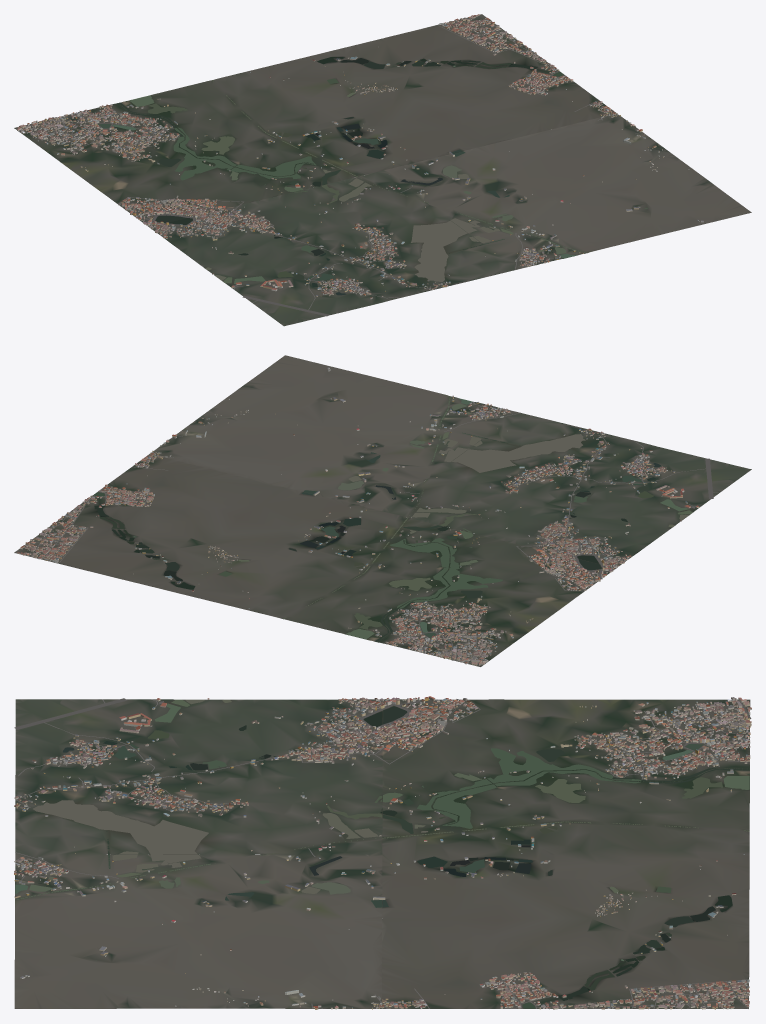
The picture shows the model from 3 angles, top to bottom: view 1: azimuth 30°, elevation 25°; view 2: azimuth 150°, elevation 25°; view 3: azimuth 270°, elevation 25°; orthographic projection. The views are drawn at different scales.
Parts seen in each view (by area): view 1: ground, buildings, water, roads; view 2: ground, buildings, water, roads; view 3: ground, buildings, water, roads.
Part boxes in pixels (box(x1,y1,x2,y2)): ground: box(14, 14, 751, 326); buildings: box(17, 14, 703, 299); water: box(99, 57, 647, 299); roads: box(18, 18, 641, 316); ground: box(14, 355, 751, 666); buildings: box(17, 367, 699, 665); water: box(93, 396, 694, 642); roads: box(16, 403, 719, 663); ground: box(14, 699, 750, 1008); buildings: box(14, 696, 751, 1009); water: box(15, 699, 749, 1008); roads: box(14, 698, 751, 1008).
Size of the model in its own units: 2816 by 23.22 by 2817.
